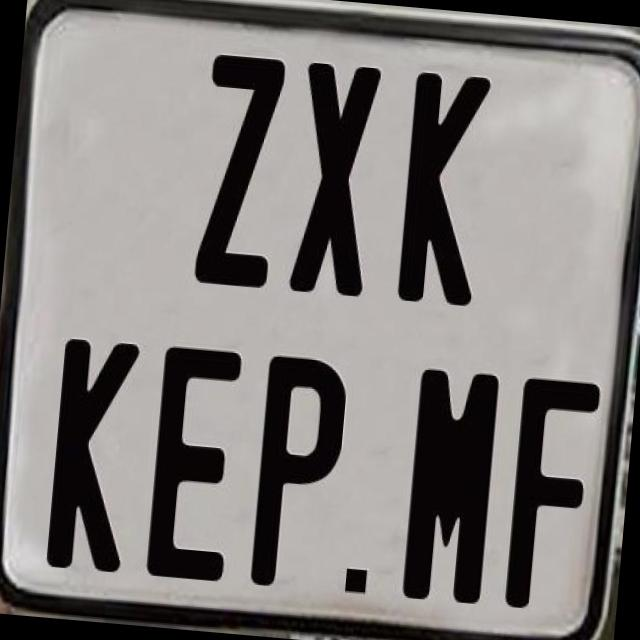E: (142, 342, 242, 588)
F: (501, 372, 603, 614)
K: (43, 333, 146, 568), (396, 68, 496, 303)
M: (399, 364, 502, 604)
P: (247, 352, 351, 592)
X: (287, 61, 384, 306)
Z: (193, 52, 293, 295)
